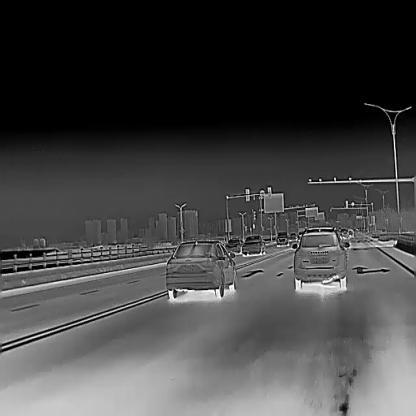car: (165, 240, 238, 300), (291, 225, 350, 289), (241, 233, 265, 255), (224, 238, 243, 255), (276, 231, 289, 245), (340, 230, 350, 240), (347, 227, 355, 239), (289, 232, 297, 242), (298, 232, 304, 238)
